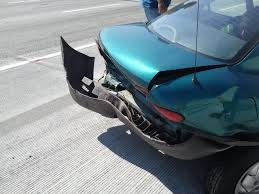Dent: (71, 59, 235, 131)
